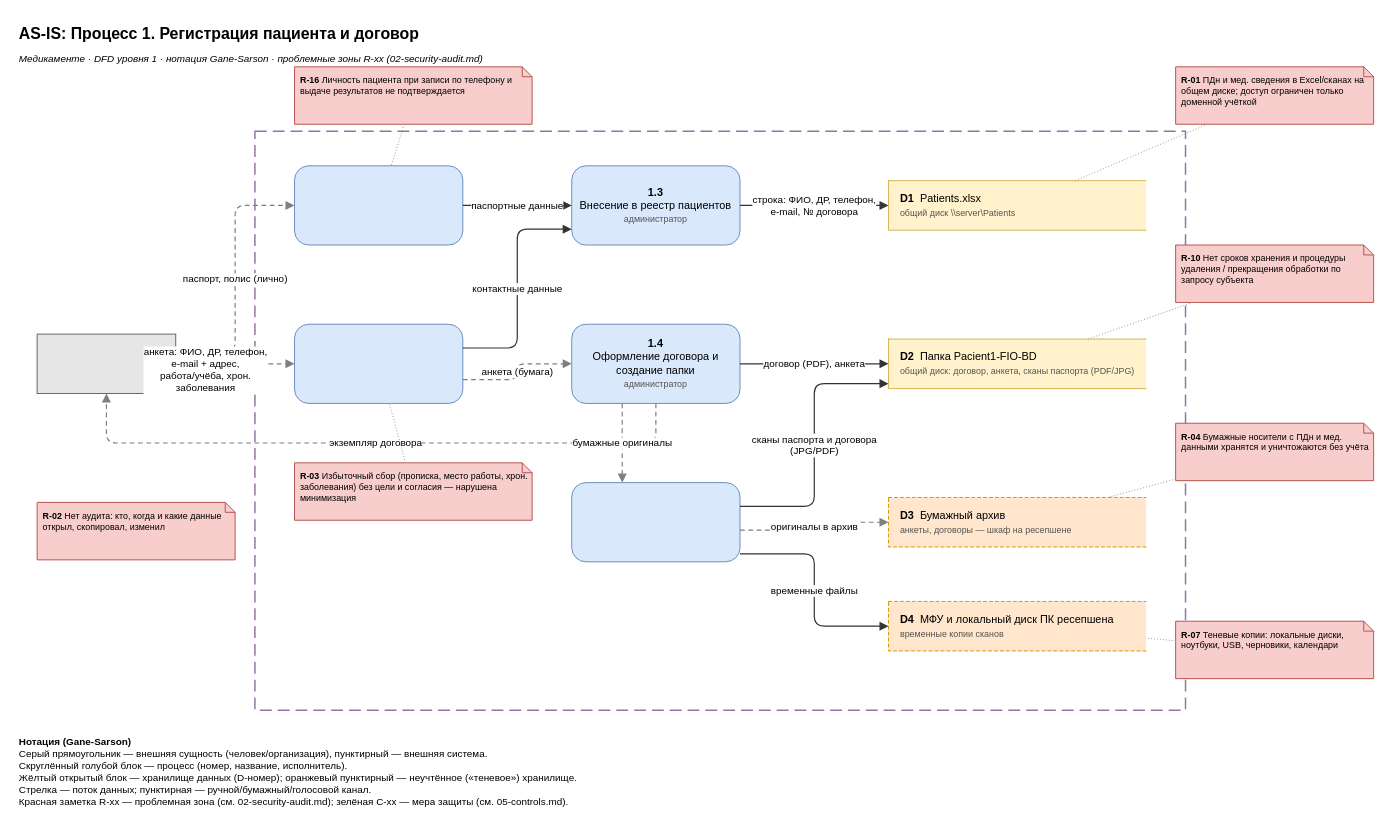
This 1391x836 diagram has some shape labels left out. Here are the shapes that lost their labels. From the top down, the box of each, then its label:
(294, 165, 463, 245): 1.1 Приём и проверка документов администратор ресепшена
(36, 333, 176, 394): Пациент
(294, 323, 463, 403): 1.2 Заполнение анкеты пациент + администратор
(254, 130, 1186, 711): Офис: ресепшен, ЛВС, домен AD
(571, 482, 740, 562): 1.5 Сканирование документов администратор
